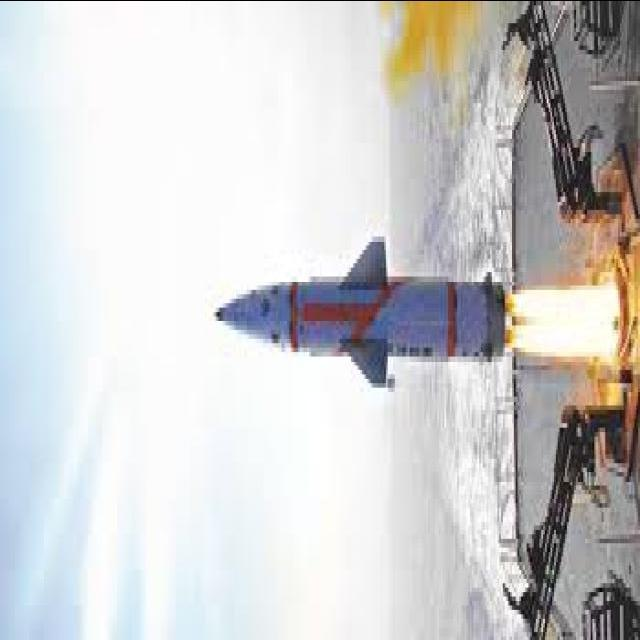missile: (194, 264, 521, 370)
